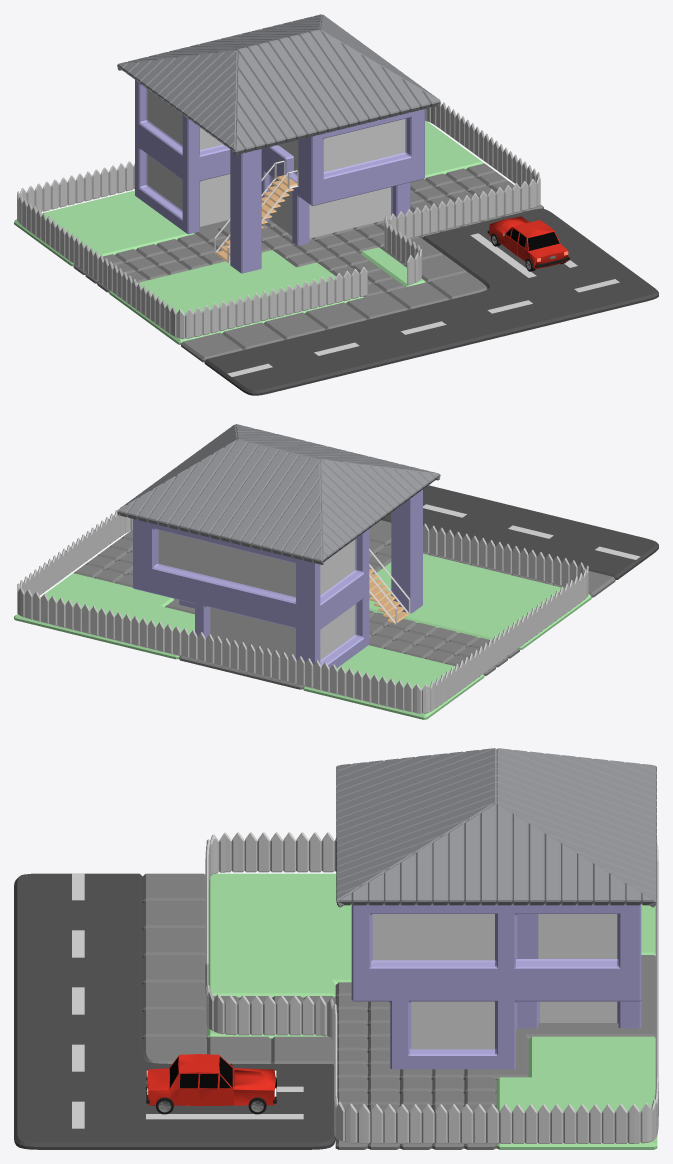
Rendered from home_1.glb.
The picture shows the model from 3 angles, top to bottom: view 1: azimuth 30°, elevation 25°; view 2: azimuth 150°, elevation 25°; view 3: azimuth 270°, elevation 25°; orthographic projection. The views are drawn at different scales.
Parts seen in each view (by area): view 1: floor_medium, walls_stadtvilla, dach_blech_stadtvilla, small_zaun_small.001, car, stairs_stadvilla, small_lines.001, small_lines.002; view 2: floor_medium, walls_stadtvilla, dach_blech_stadtvilla, small_zaun_small.001, stairs_stadvilla, small_lines.001; view 3: floor_medium, dach_blech_stadtvilla, walls_stadtvilla, small_zaun_small.001, car, small_lines.001, small_lines.002.
Boxes of the visible parts, x1=… form: floor_medium: x1=14, y1=121, x2=658, y2=395; walls_stadtvilla: x1=135, y1=80, x2=424, y2=273; dach_blech_stadtvilla: x1=117, y1=14, x2=440, y2=155; small_zaun_small.001: x1=17, y1=95, x2=540, y2=338; car: x1=487, y1=216, x2=569, y2=271; stairs_stadvilla: x1=214, y1=160, x2=298, y2=263; small_lines.001: x1=227, y1=279, x2=619, y2=376; small_lines.002: x1=470, y1=233, x2=577, y2=277; floor_medium: x1=14, y1=485, x2=658, y2=719; walls_stadtvilla: x1=133, y1=489, x2=422, y2=669; dach_blech_stadtvilla: x1=117, y1=424, x2=440, y2=564; small_zaun_small.001: x1=17, y1=506, x2=588, y2=713; stairs_stadvilla: x1=369, y1=548, x2=410, y2=624; small_lines.001: x1=423, y1=504, x2=640, y2=559; floor_medium: x1=14, y1=873, x2=657, y2=1149; dach_blech_stadtvilla: x1=336, y1=748, x2=656, y2=907; walls_stadtvilla: x1=351, y1=904, x2=641, y2=1069; small_zaun_small.001: x1=205, y1=832, x2=658, y2=1143; car: x1=146, y1=1054, x2=276, y2=1114; small_lines.001: x1=72, y1=873, x2=84, y2=1128; small_lines.002: x1=146, y1=1086, x2=303, y2=1119.
Bounding box in the file's own units: 20.1 × 8.18 × 20.05.
